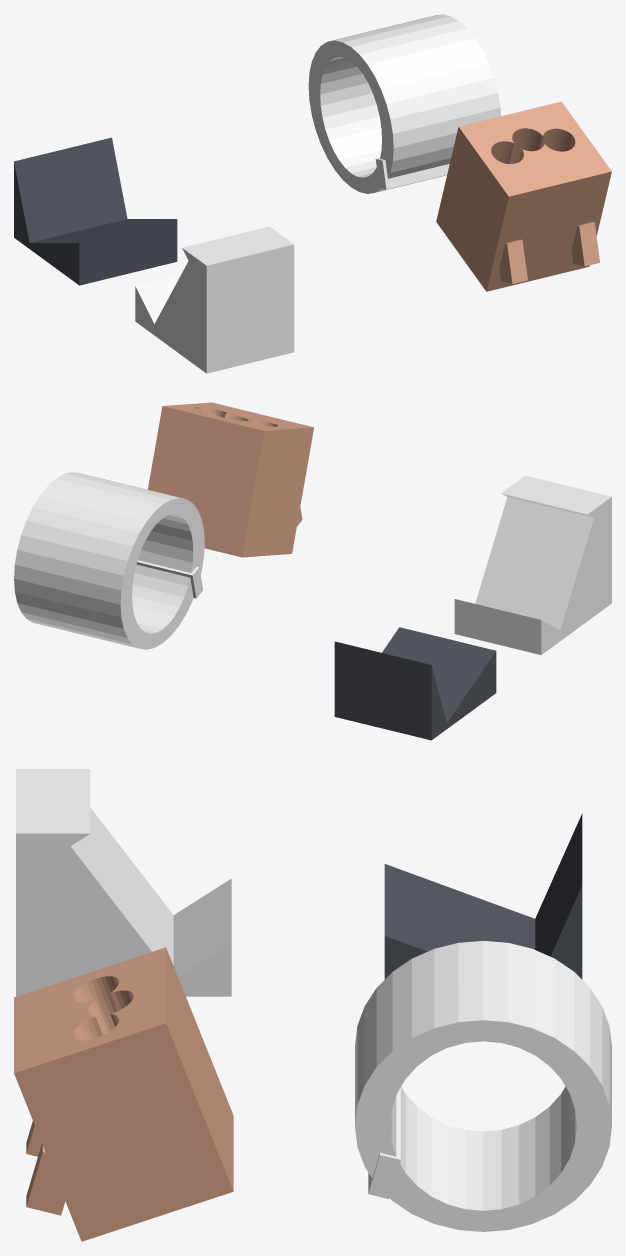
The model's file is phone_stands_collection.glb.
3 views of the same model, one above another, from view 1: azimuth 30°, elevation 25°; view 2: azimuth 150°, elevation 25°; view 3: azimuth 270°, elevation 25° (orthographic). The views are drawn at different scales.
Visible parts, largest first — view 1: Stand2_Nordic_Curve, Stand4_Voronoi_Lattice, Stand3_Pure_Wedge, Stand1_Facet_Stealth, Voronoi_Peg_0.11499999999999999, Voronoi_Peg_0.185, Stand2_Front_Lip; view 2: Stand2_Nordic_Curve, Stand3_Pure_Wedge, Stand4_Voronoi_Lattice, Stand1_Facet_Stealth, Stand2_Front_Lip; view 3: Stand2_Nordic_Curve, Stand4_Voronoi_Lattice, Stand3_Pure_Wedge, Stand1_Facet_Stealth, Voronoi_Peg_0.185, Stand2_Front_Lip.
Boxes of the visible parts, x1,y1,x2,y2 form: Stand2_Nordic_Curve: [308, 14, 500, 193]; Stand4_Voronoi_Lattice: [436, 101, 611, 291]; Stand3_Pure_Wedge: [135, 226, 294, 373]; Stand1_Facet_Stealth: [14, 137, 177, 285]; Voronoi_Peg_0.11499999999999999: [499, 239, 527, 283]; Voronoi_Peg_0.185: [571, 222, 599, 266]; Stand2_Front_Lip: [375, 158, 449, 189]; Stand2_Nordic_Curve: [14, 472, 204, 649]; Stand3_Pure_Wedge: [454, 475, 611, 654]; Stand4_Voronoi_Lattice: [148, 402, 313, 557]; Stand1_Facet_Stealth: [334, 627, 496, 740]; Stand2_Front_Lip: [136, 560, 202, 598]; Stand2_Nordic_Curve: [355, 940, 611, 1231]; Stand4_Voronoi_Lattice: [14, 947, 233, 1241]; Stand3_Pure_Wedge: [16, 769, 231, 996]; Stand1_Facet_Stealth: [384, 813, 582, 979]; Voronoi_Peg_0.185: [26, 1144, 65, 1215]; Stand2_Front_Lip: [368, 1088, 400, 1198].
Size of the model in its own units: 0.4025 by 0.1371 by 0.3326.
